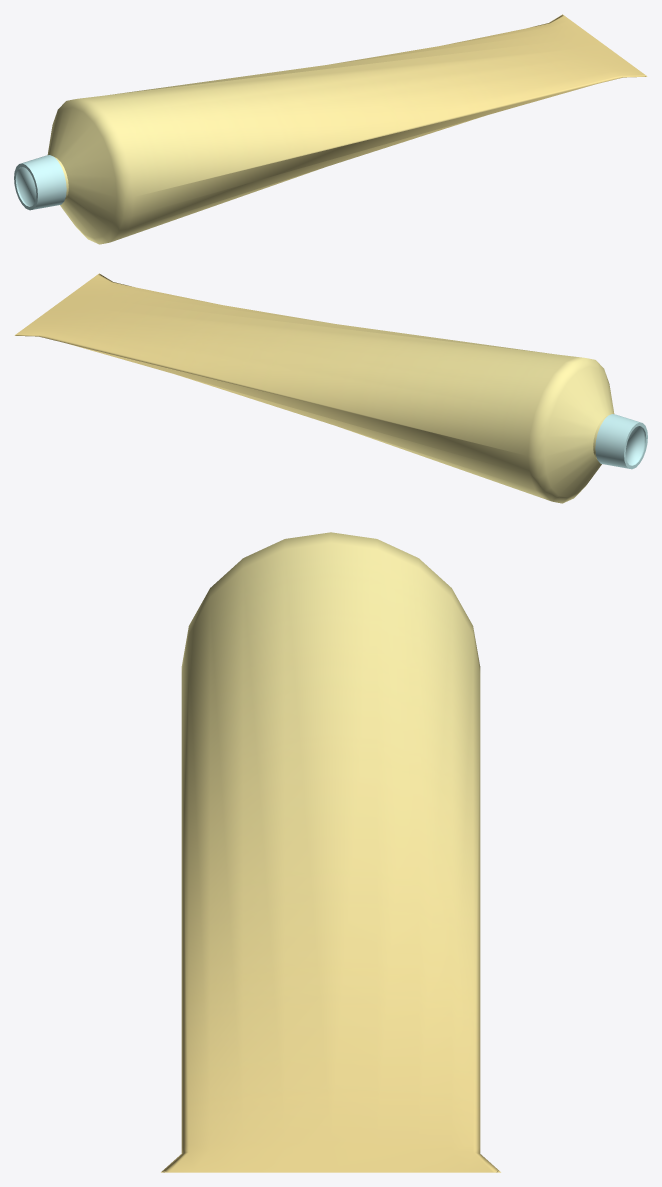
Rendered from toothpaste_cream.fbx.
3 views of the same model, one above another, from view 1: azimuth 30°, elevation 25°; view 2: azimuth 150°, elevation 25°; view 3: azimuth 270°, elevation 25° (orthographic). The views are drawn at different scales.
Parts seen in each view (by area): view 1: toothpaste_cream; view 2: toothpaste_cream; view 3: toothpaste_cream.
Part boxes in pixels (x1,y1,x2,y2): toothpaste_cream: (14,14,647,244); toothpaste_cream: (14,273,647,503); toothpaste_cream: (161,532,500,1172).
Size of the model in its own units: 221 by 49.33 by 56.31.
